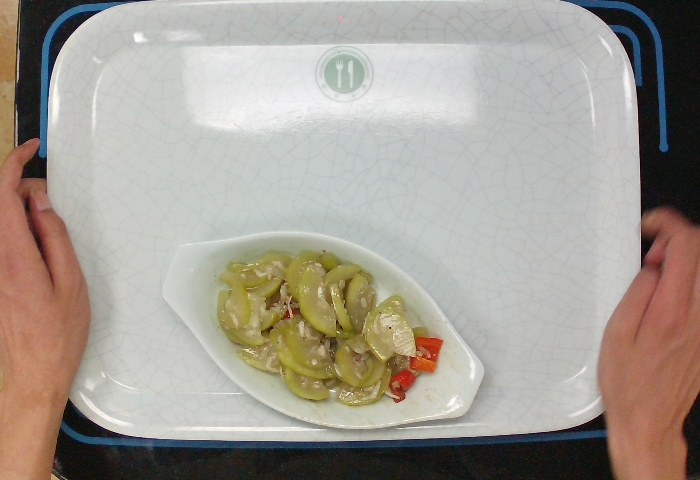JYsf-Yu_Pan: (156, 226, 487, 436)
